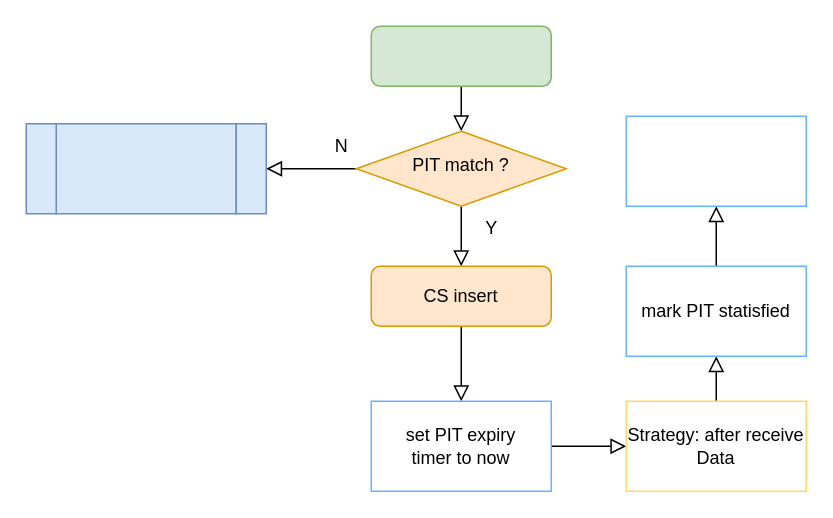
Image size: 833x518. Some labels were removed from this diagram. Each missing label, with the box of its shape:
clear PIT out records: (625, 115, 806, 206)
Data unsolicited: (55, 122, 236, 214)
receive Data: (370, 25, 551, 86)
